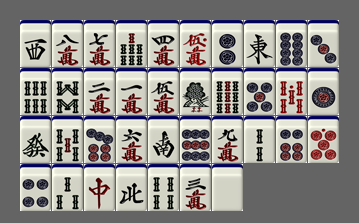0m: (180, 20, 211, 67)
0p: (308, 116, 339, 163)
0s: (276, 68, 307, 115)
1m: (116, 68, 147, 115)
1p: (308, 68, 339, 115)
1s: (180, 68, 211, 115)
1z: (244, 20, 275, 67)
2m: (84, 68, 115, 115)
2p: (212, 20, 243, 67)
2s: (244, 116, 275, 163)
2z: (148, 116, 179, 163)
3m: (180, 164, 211, 211)
3p: (308, 20, 339, 67)
3s: (52, 164, 83, 211)
3z: (20, 20, 51, 67)
4m: (148, 20, 179, 67)
4p: (20, 164, 51, 211)
4s: (148, 164, 179, 211)
4z: (116, 164, 147, 211)
5m: (148, 68, 179, 115)
5p: (244, 68, 275, 115)
5s: (52, 116, 83, 163)
5z: (212, 164, 243, 211)
6m: (116, 116, 147, 163)
6p: (276, 116, 307, 163)
6s: (20, 68, 51, 115)
6z: (20, 116, 51, 163)
7m: (84, 20, 115, 67)
7p: (84, 116, 115, 163)
7s: (116, 20, 147, 67)
7z: (84, 164, 115, 211)
8m: (52, 20, 83, 67)
8p: (276, 20, 307, 67)
8s: (52, 68, 83, 115)
9m: (212, 116, 243, 163)
9p: (180, 116, 211, 163)
9s: (212, 68, 243, 115)
